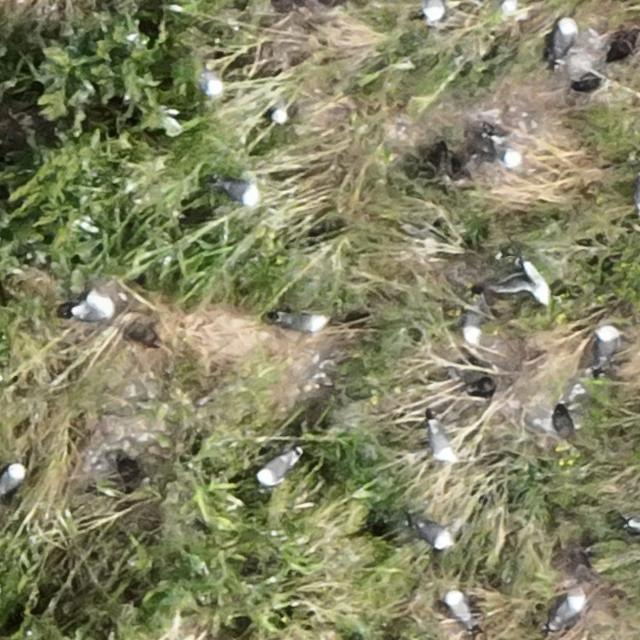umineko: (490, 127, 524, 169), (72, 294, 117, 320), (257, 454, 294, 483), (265, 88, 291, 126), (551, 595, 582, 626), (194, 69, 227, 98), (462, 302, 484, 345), (278, 312, 324, 332), (222, 183, 258, 205), (445, 593, 471, 623), (419, 522, 451, 546), (1, 463, 24, 495), (553, 19, 573, 55), (595, 326, 614, 362), (431, 427, 451, 458), (627, 514, 639, 528)
